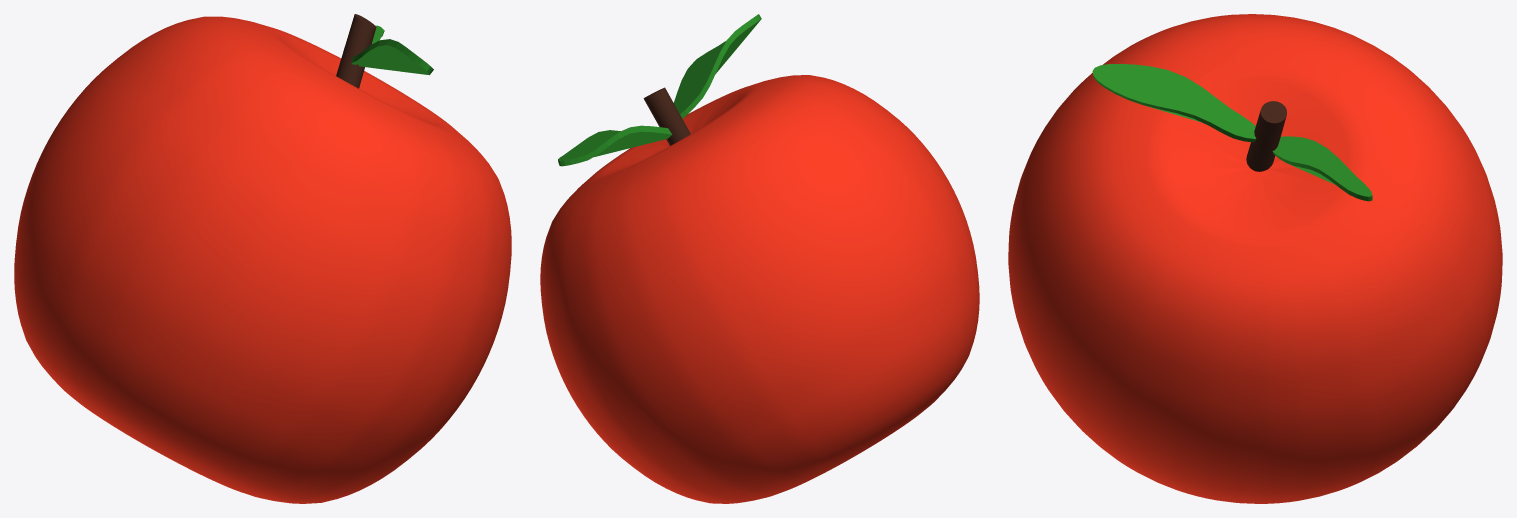
File: tomato.fbx
The picture shows the model from 3 angles, left to right: view 1: azimuth 30°, elevation 25°; view 2: azimuth 150°, elevation 25°; view 3: azimuth 270°, elevation 25°; orthographic projection. The views are drawn at different scales.
Visible parts, largest first — view 1: Tomato; view 2: Tomato; view 3: Tomato.
Boxes of the visible parts, <box> form: Tomato: <box>14,14,511,503</box>; Tomato: <box>540,14,979,503</box>; Tomato: <box>1008,14,1502,503</box>.
Bounding box in the file's own units: 372 × 380 × 375.
